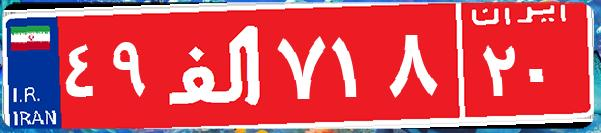0: (525, 38, 570, 115)
1: (330, 28, 385, 110)
2: (475, 38, 525, 113)
4: (57, 26, 110, 107)
7: (273, 28, 330, 110)
8: (385, 28, 445, 110)
9: (110, 28, 158, 105)
الف: (158, 15, 273, 115)
